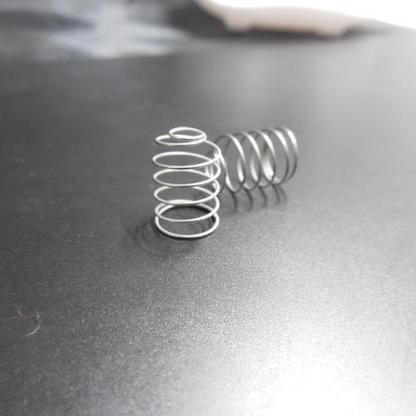FOD: (144, 125, 224, 243), (204, 122, 302, 195)
